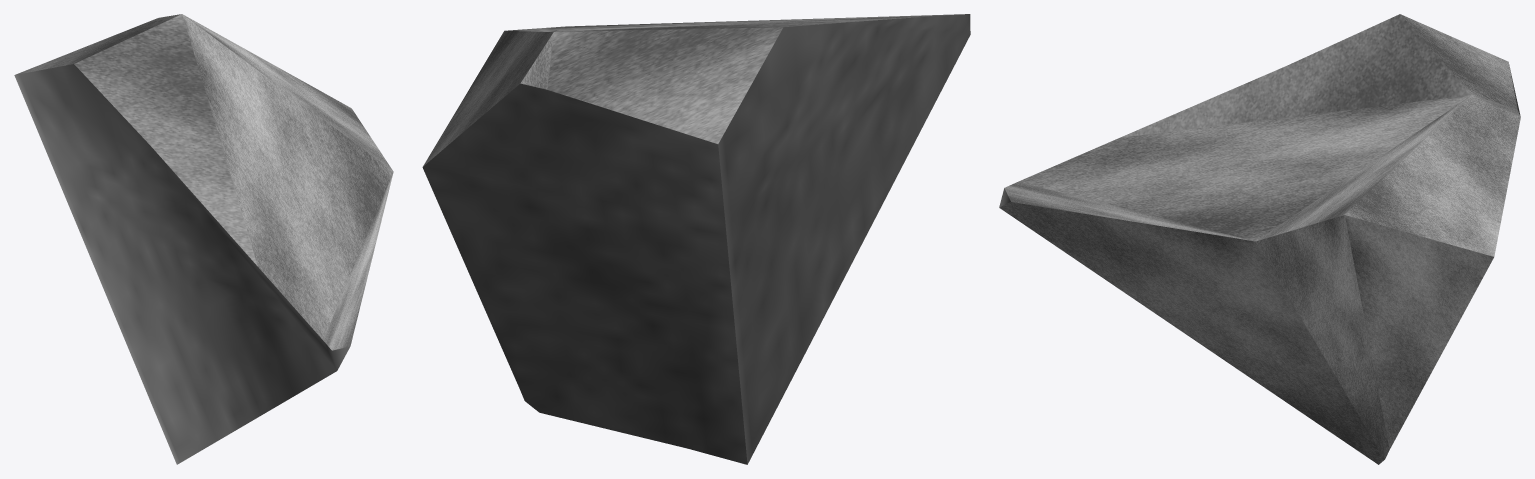
Rendered from leg_2_cell_005.fbx.
The picture shows the model from 3 angles, left to right: view 1: azimuth 30°, elevation 25°; view 2: azimuth 150°, elevation 25°; view 3: azimuth 270°, elevation 25°; orthographic projection. The views are drawn at different scales.
Visible parts, largest first — view 1: leg_2_cell.005; view 2: leg_2_cell.005; view 3: leg_2_cell.005.
Part boxes in pixels (x1,y1,x2,y2): leg_2_cell.005: (14,14,393,464); leg_2_cell.005: (422,14,970,464); leg_2_cell.005: (999,14,1520,464).
Size of the model in its own units: 14.78 by 21.72 by 27.03.
